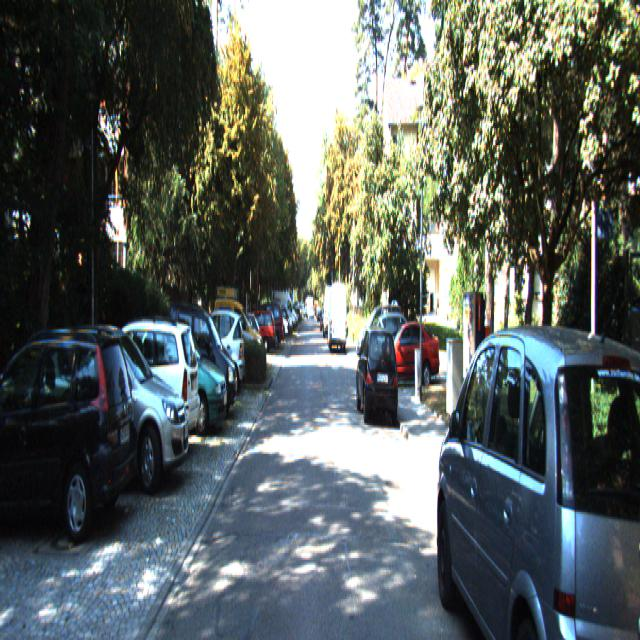Car: (433, 314, 639, 638), (0, 315, 136, 533), (26, 316, 191, 495), (71, 309, 201, 456), (139, 313, 228, 433), (164, 302, 236, 422), (188, 307, 245, 398), (354, 325, 400, 429), (213, 280, 263, 367), (378, 317, 440, 384), (236, 309, 276, 353), (249, 302, 284, 352), (328, 282, 347, 349), (323, 284, 337, 337)
